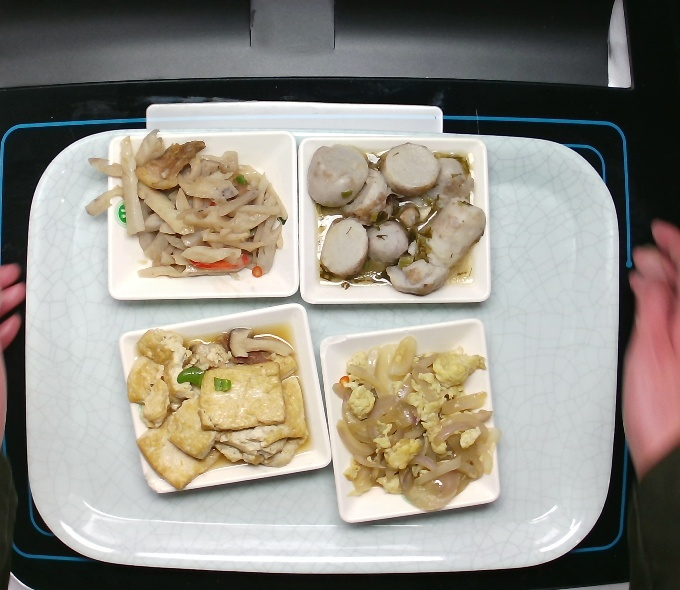wcq-JiaChangDouFu: (127, 326, 312, 493)
wcq-QingChaoOuPian: (88, 129, 286, 286)
wcq-YangCongChaoDan: (324, 339, 503, 515)
wcq-YangYu: (301, 136, 486, 293)
